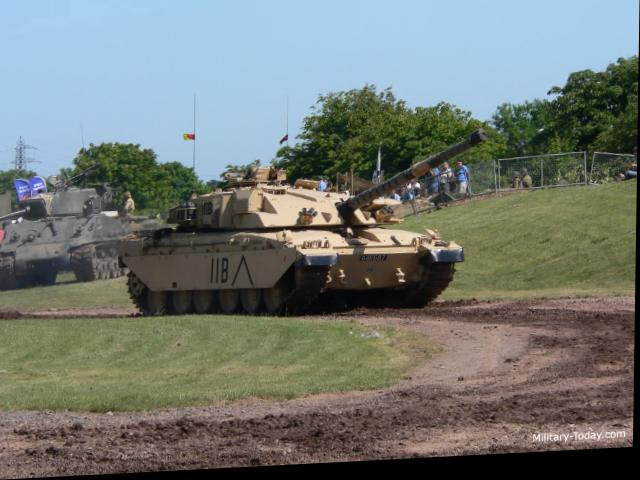tank: (127, 158, 467, 329), (0, 174, 126, 286)
